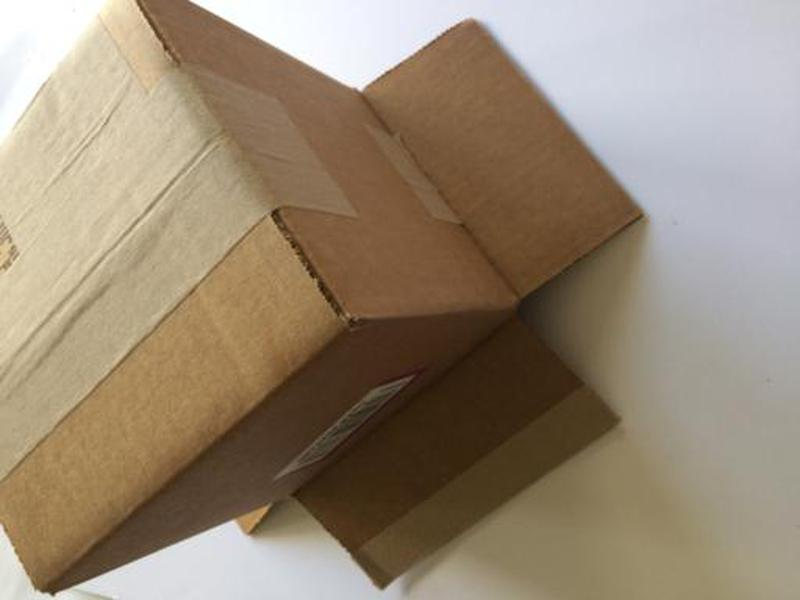cardboard: (1, 1, 651, 600)
